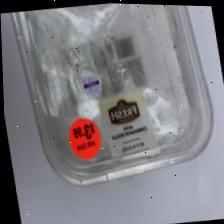plastic: (12, 0, 218, 196)
